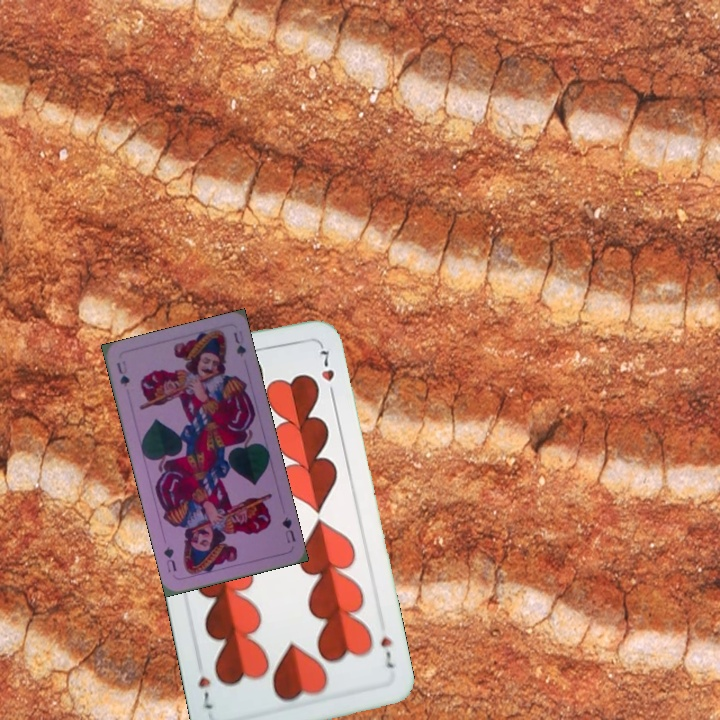GU: (278, 513, 298, 546), (113, 357, 132, 389)
H7: (376, 633, 396, 671)
